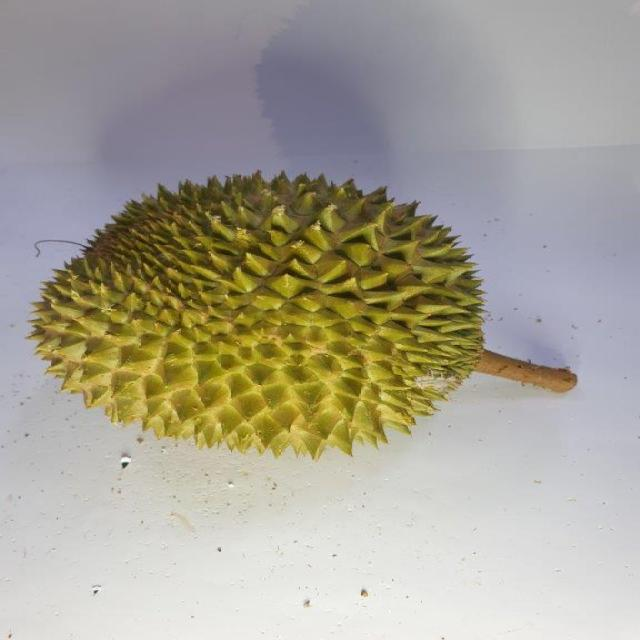immature: (32, 174, 487, 458)
